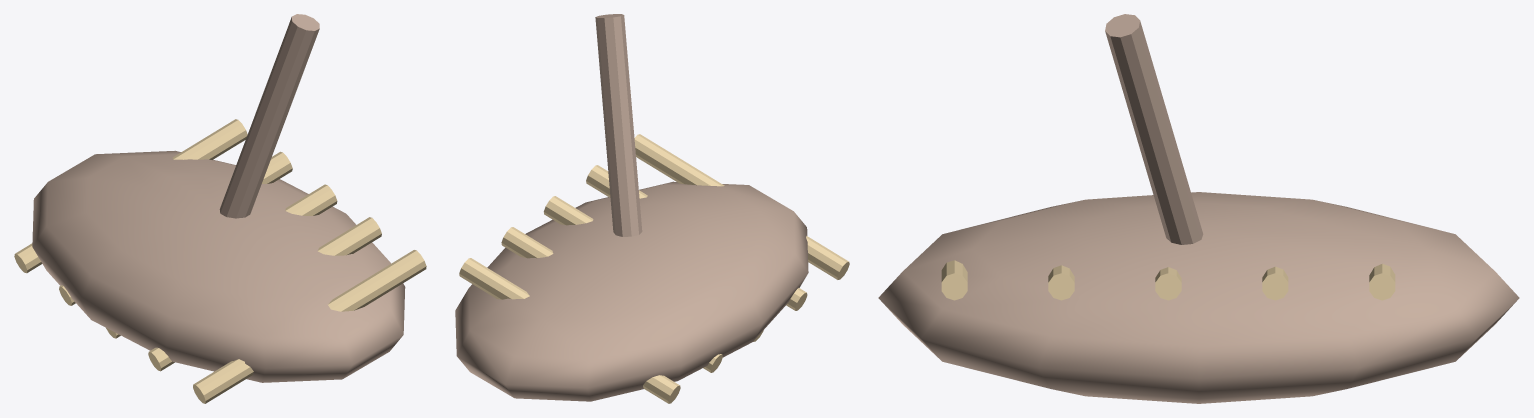
The model's file is wreck.glb.
3 views of the same model, side by side, from view 1: azimuth 30°, elevation 25°; view 2: azimuth 150°, elevation 25°; view 3: azimuth 270°, elevation 25° (orthographic). The views are drawn at different scales.
Visible parts, largest first — view 1: wreck_Salvaged_teak, wreck_Diver_brass; view 2: wreck_Salvaged_teak, wreck_Diver_brass; view 3: wreck_Salvaged_teak, wreck_Diver_brass.
Boxes of the visible parts, x1,y1,x2,y2 form: wreck_Salvaged_teak: (32, 14, 405, 382); wreck_Diver_brass: (14, 119, 426, 403); wreck_Salvaged_teak: (455, 14, 808, 401); wreck_Diver_brass: (459, 134, 849, 403); wreck_Salvaged_teak: (878, 14, 1519, 403); wreck_Diver_brass: (941, 260, 1395, 300).
Size of the model in its own units: 2.5 by 2.74 by 4.2.
